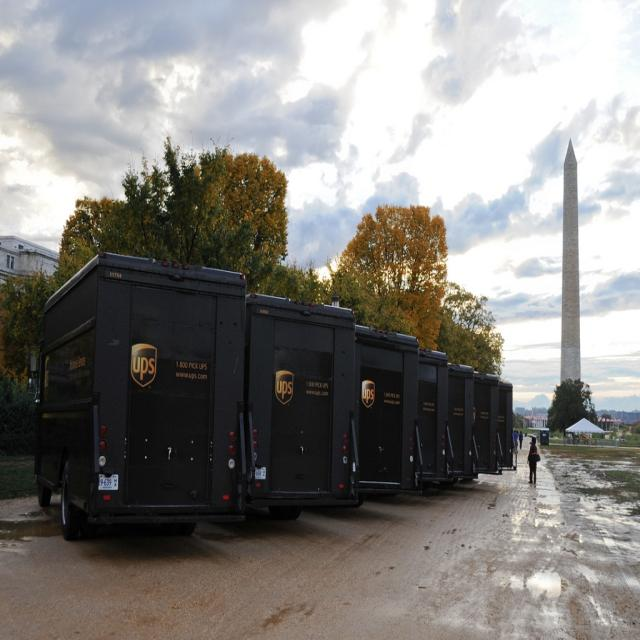ups: (132, 344, 157, 388), (276, 370, 295, 406), (361, 379, 377, 408)
